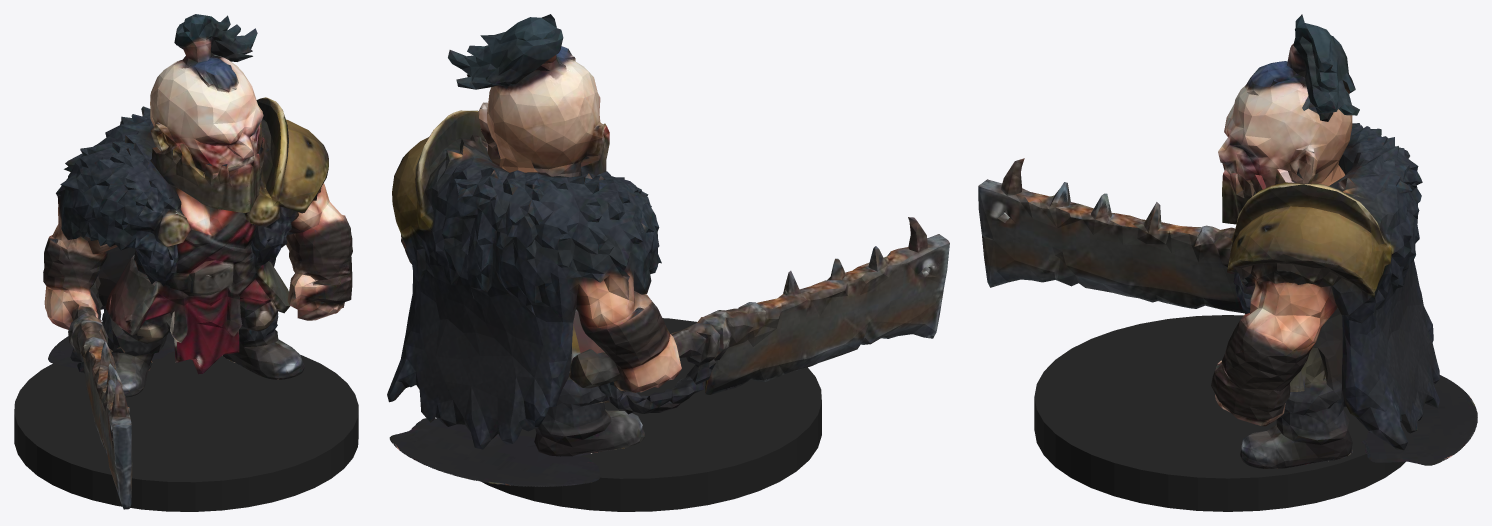
Rendered from bok-claws-brutaliser.glb.
3 views of the same model, side by side, from view 1: azimuth 30°, elevation 25°; view 2: azimuth 150°, elevation 25°; view 3: azimuth 270°, elevation 25° (orthographic). The views are drawn at different scales.
Visible parts, largest first — view 1: figure, base; view 2: figure, base; view 3: figure, base.
Boxes of the visible parts, bbox=[...] form: figure: bbox=[43, 14, 352, 509]; base: bbox=[14, 352, 358, 511]; figure: bbox=[387, 14, 949, 486]; base: bbox=[482, 318, 821, 511]; figure: bbox=[978, 14, 1477, 468]; base: bbox=[1034, 315, 1405, 511].
Bounding box in the file's own units: 1.52 × 1.57 × 1.63.
2 materials, 1 textured.
